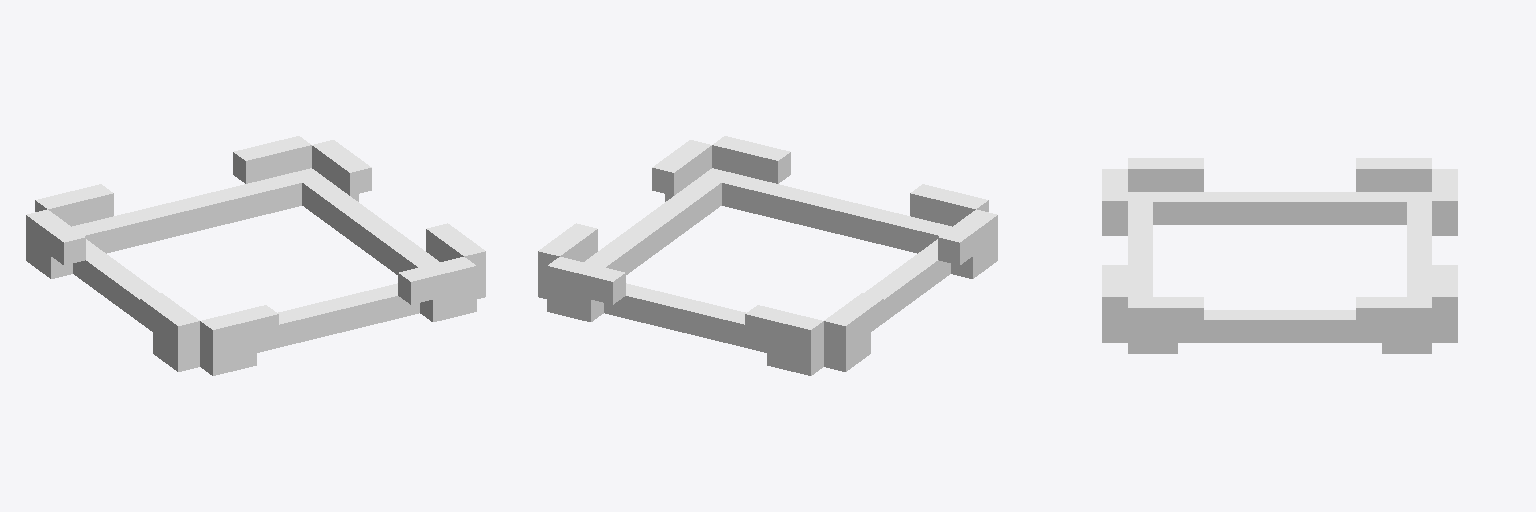
File: glass_ym.obj
3 views of the same model, side by side, from view 1: azimuth 30°, elevation 25°; view 2: azimuth 150°, elevation 25°; view 3: azimuth 270°, elevation 25° (orthographic).
Size of the model in its own units: 14 by 2 by 14.